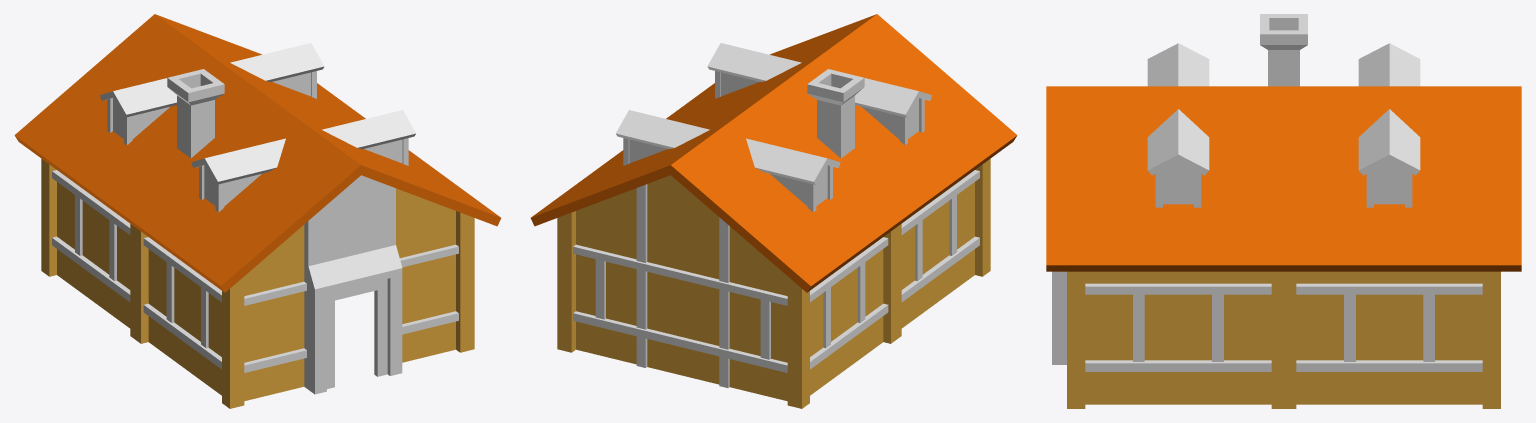
Rendered from Huis v1 fix.fbx.
3 views of the same model, side by side, from view 1: azimuth 30°, elevation 25°; view 2: azimuth 150°, elevation 25°; view 3: azimuth 270°, elevation 25° (orthographic). The views are drawn at different scales.
Visible parts, largest first — view 1: Huis v1 fixed interior; view 2: Huis v1 fixed interior; view 3: Huis v1 fixed interior.
Boxes of the visible parts, x1,y1,x2,y2 form: Huis v1 fixed interior: (14, 14, 501, 408); Huis v1 fixed interior: (530, 14, 1017, 408); Huis v1 fixed interior: (1046, 14, 1521, 408).
Bounding box in the file's own units: 8.16 × 6.79 × 10.4.
